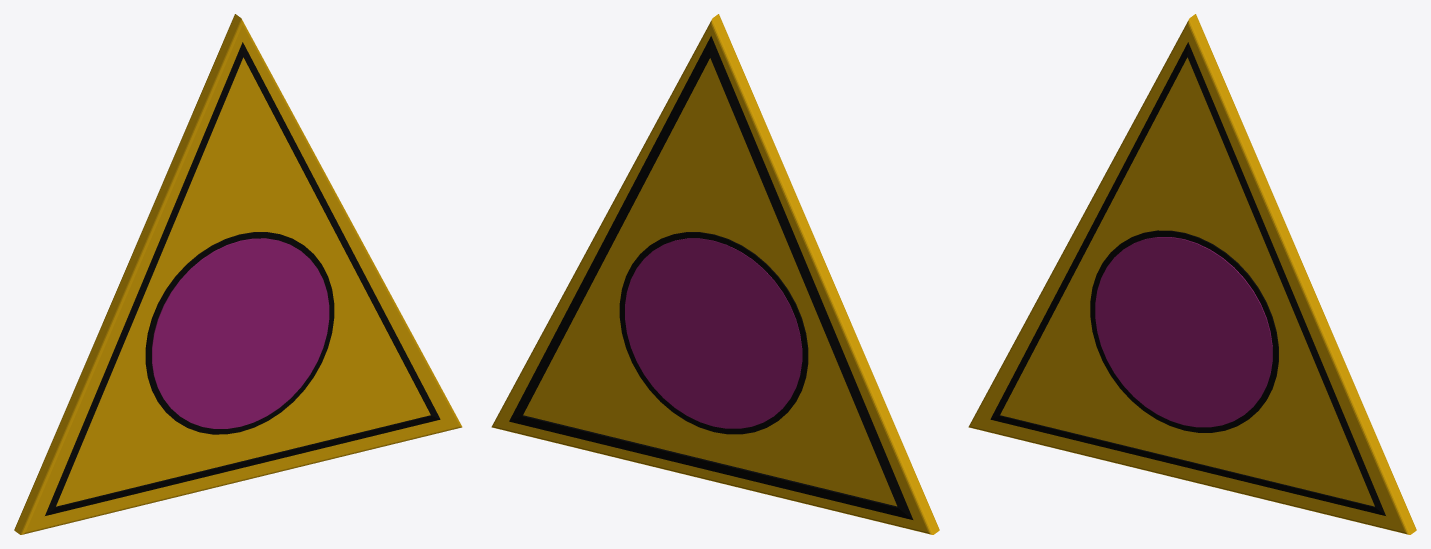
File: Triangle_Circle.fbx
3 views of the same model, side by side, from view 1: azimuth 30°, elevation 25°; view 2: azimuth 150°, elevation 25°; view 3: azimuth 330°, elevation 25° (orthographic).
Visible parts, largest first — view 1: outer_TriangleCircle; view 2: outer_TriangleCircle; view 3: outer_TriangleCircle.
Part boxes in pixels (x1,y1,x2,y2): outer_TriangleCircle: (14, 14, 462, 534); outer_TriangleCircle: (491, 14, 939, 534); outer_TriangleCircle: (968, 14, 1416, 534).
Bounding box in the file's own units: 150 × 150 × 6.55.
Materials: 4 (4 with a texture image).
